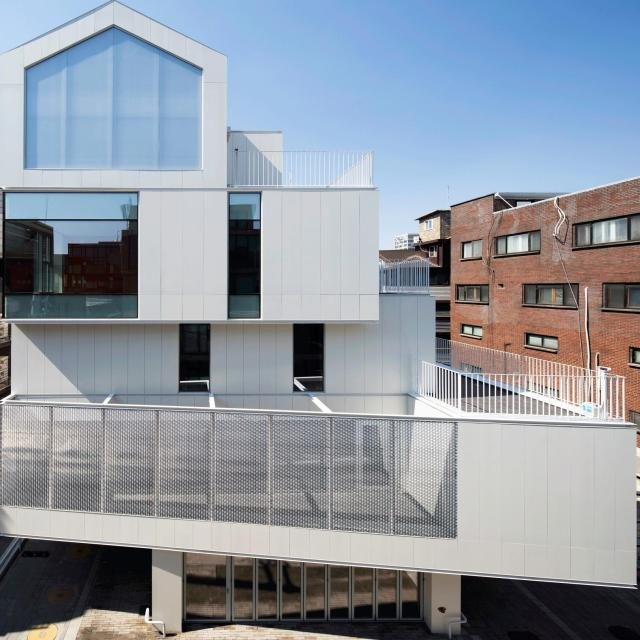door: (186, 551, 426, 623)
railing: (413, 355, 629, 421), (233, 151, 377, 190), (379, 260, 431, 293)
window: (25, 27, 202, 168), (2, 194, 139, 316), (228, 194, 260, 316), (294, 323, 325, 389), (177, 323, 208, 389)
